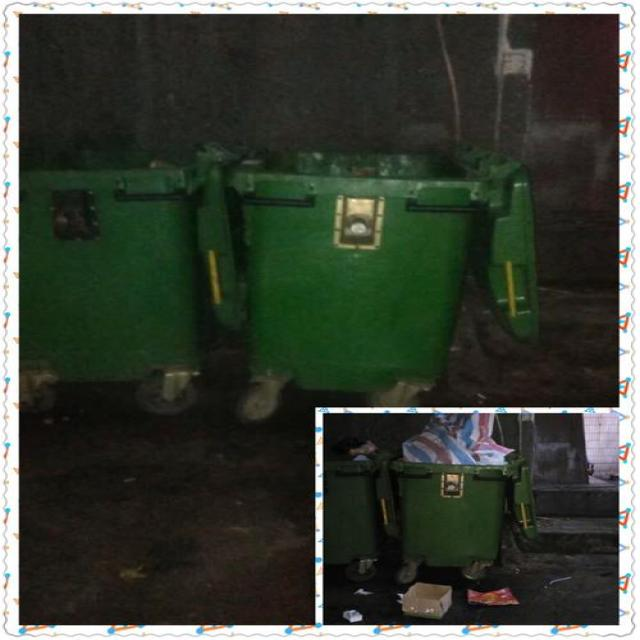garbage: (343, 582, 516, 620)
garbage_bin: (229, 147, 535, 390), (21, 143, 236, 380)
overflow: (389, 412, 539, 565), (322, 438, 396, 562)
